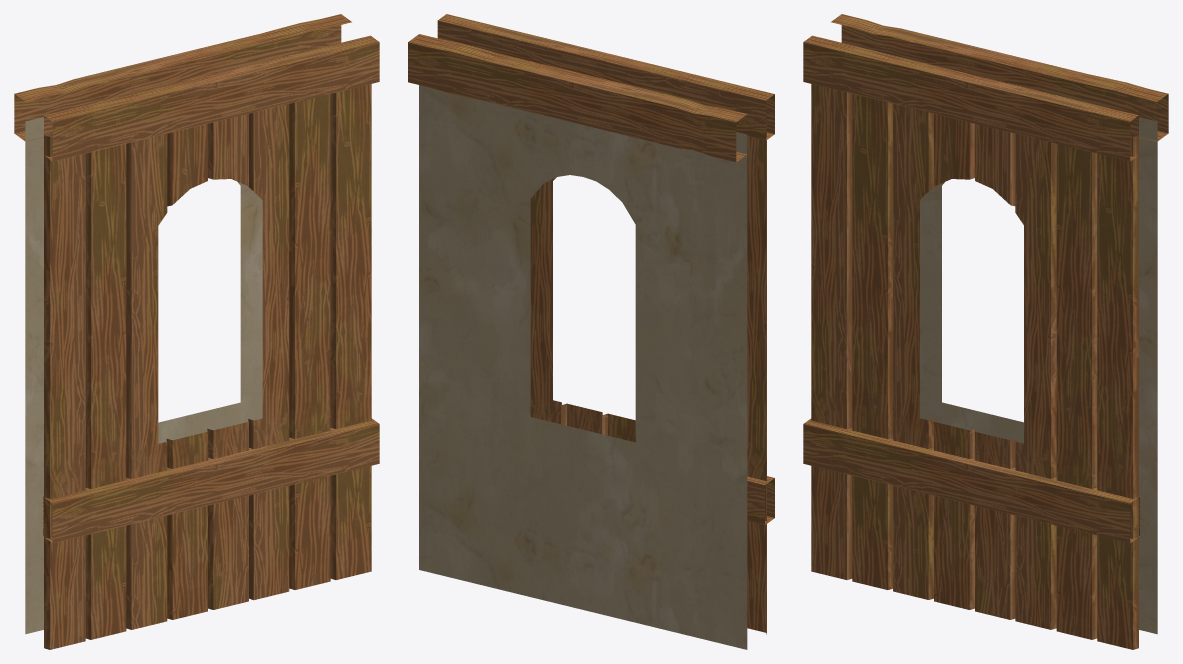
File: Wall_WoodWear_Window_Thin_Round.gltf
3 views of the same model, side by side, from view 1: azimuth 30°, elevation 25°; view 2: azimuth 150°, elevation 25°; view 3: azimuth 330°, elevation 25° (orthographic).
Parts seen in each view (by area): view 1: Wall_WoodWear_Window_Thin_Round; view 2: Wall_WoodWear_Window_Thin_Round; view 3: Wall_WoodWear_Window_Thin_Round.
Boxes of the visible parts, left/top/right/bottom form: Wall_WoodWear_Window_Thin_Round: left=14, top=14, right=379, bottom=649; Wall_WoodWear_Window_Thin_Round: left=408, top=14, right=774, bottom=649; Wall_WoodWear_Window_Thin_Round: left=803, top=14, right=1168, bottom=649.
Bounding box in the file's own units: 2 × 3.12 × 0.4065.
Materials: 3 (3 with a texture image).
